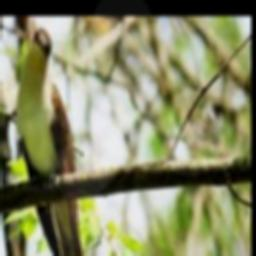Cuckoo: (16, 29, 96, 256)
